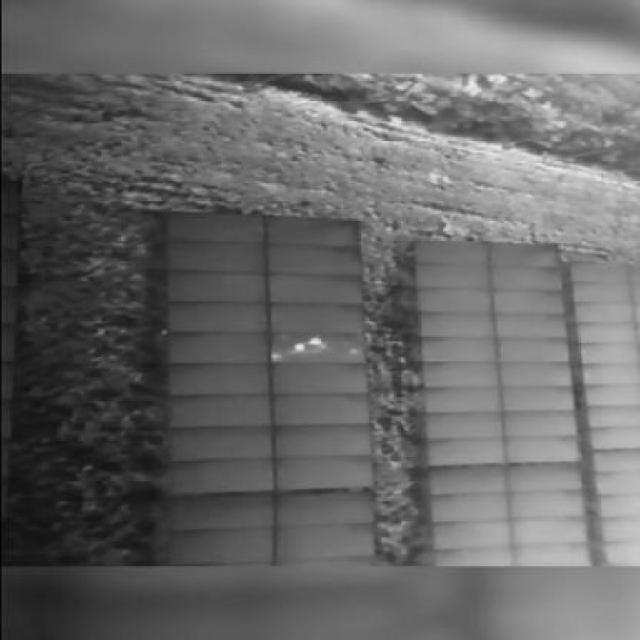hotspot: (272, 353, 291, 362), (311, 336, 326, 346), (292, 345, 308, 353)
